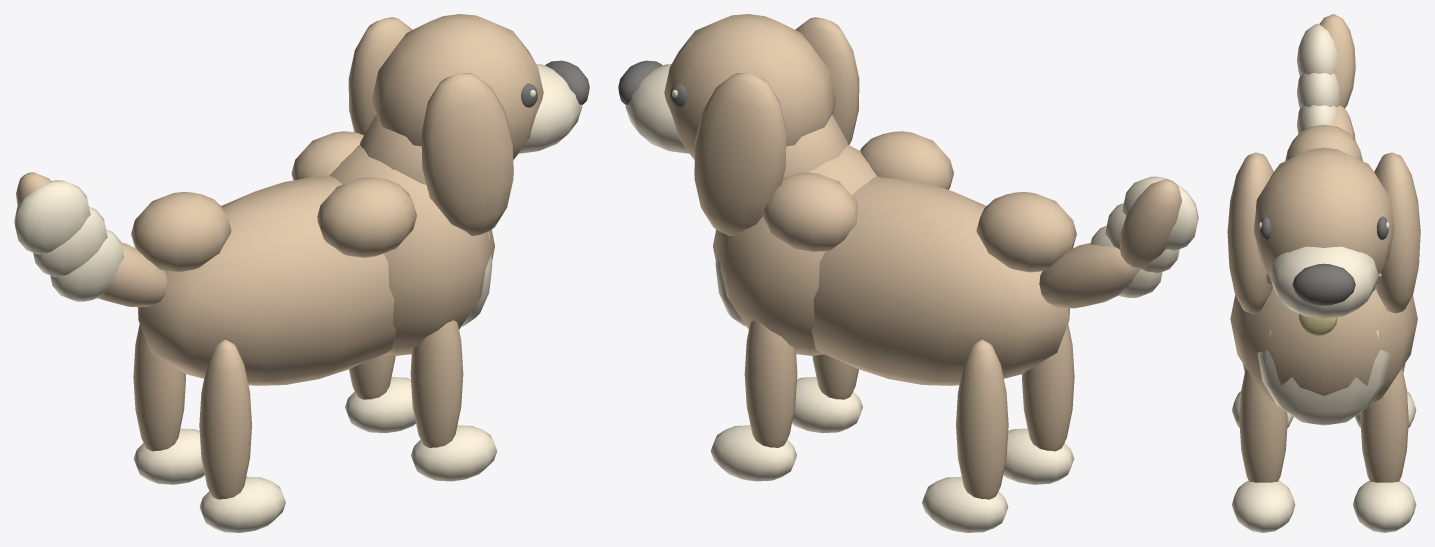
File: marley-idle.glb
3 renders of one model, left to right at view 1: azimuth 30°, elevation 25°; view 2: azimuth 150°, elevation 25°; view 3: azimuth 270°, elevation 25°, orthographic. The views are drawn at different scales.
Visible parts, largest first — view 1: Retriever body, Round head, Fluffy chest, Floppy ear, Leg, Fur tuft.001, Fur tuft, Leg.002, Leg.001, Tail feather.002, Floppy ear.001, Cream paw.002 (+11 smaller); view 2: Retriever body, Round head, Floppy ear.001, Fluffy chest, Leg.001, Fur tuft, Fur tuft.002, Leg.003, Tail base, Leg, Tail tip, Fur tuft.001 (+12 smaller); view 3: Fluffy chest, Round head, Floppy ear.001, Floppy ear, Cream bib, Cream muzzle, Leg.003, Leg.002, Cream paw.002, Cream paw.003, Nose, Tail tip (+8 smaller).
Part boxes in pixels (x1,y1,x2,y2): Retriever body: (137, 176, 396, 385); Round head: (371, 14, 543, 159); Fluffy chest: (329, 145, 494, 355); Floppy ear: (421, 73, 513, 235); Leg: (199, 339, 251, 499); Fur tuft.001: (317, 177, 416, 257); Fur tuft: (131, 192, 231, 272); Leg.002: (410, 320, 463, 447); Leg.001: (133, 324, 185, 451); Tail feather.002: (14, 180, 90, 254); Floppy ear.001: (348, 17, 412, 134); Cream paw.002: (411, 425, 497, 481); Retriever body: (811, 176, 1070, 385); Round head: (664, 14, 836, 159); Floppy ear.001: (694, 73, 786, 235); Fluffy chest: (713, 145, 876, 355); Leg.001: (956, 339, 1008, 499); Fur tuft: (976, 192, 1076, 272); Fur tuft.002: (762, 172, 857, 251); Leg.003: (744, 320, 797, 447); Tail base: (1039, 243, 1141, 308); Leg: (1022, 324, 1074, 451); Tail tip: (1120, 179, 1181, 268); Fur tuft.001: (860, 131, 953, 189); Fluffy chest: (1230, 288, 1417, 403); Round head: (1253, 147, 1394, 274); Floppy ear.001: (1374, 152, 1420, 313); Floppy ear: (1227, 152, 1273, 313); Cream bib: (1257, 330, 1390, 425); Cream muzzle: (1269, 246, 1378, 318); Leg.003: (1360, 368, 1408, 482); Leg.002: (1239, 368, 1287, 482); Cream paw.002: (1232, 480, 1295, 532); Cream paw.003: (1353, 480, 1416, 532); Nose: (1292, 263, 1355, 305); Tail tip: (1320, 14, 1355, 108).
Bounding box in the file's own units: 2 × 1.41 × 0.6392.
